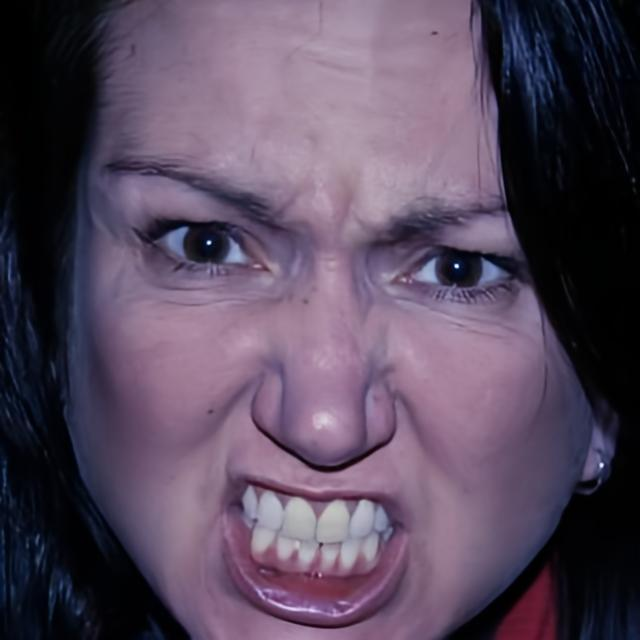anger: (80, 16, 564, 640)
